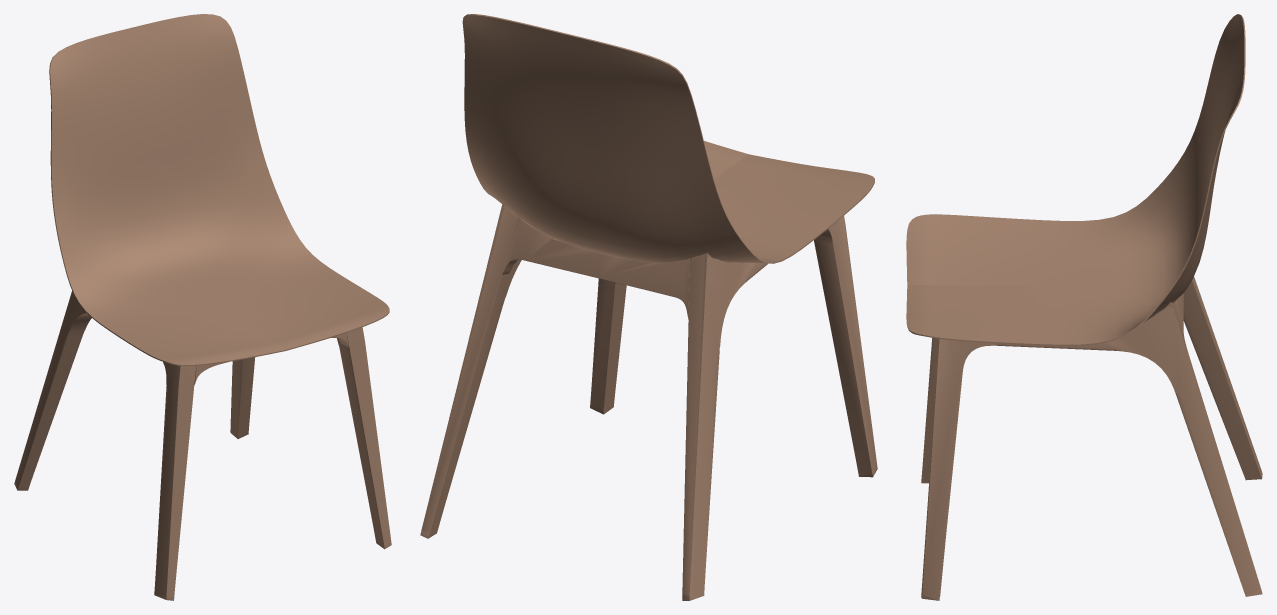
File: BP_이케아오드게르의자_C.glb
3 renders of one model, left to right at view 1: azimuth 30°, elevation 25°; view 2: azimuth 150°, elevation 25°; view 3: azimuth 270°, elevation 25°, orthographic. The views are drawn at different scales.
Parts seen in each view (by area): view 1: Plane; view 2: Plane; view 3: Plane.
Part boxes in pixels (x1,y1,x2,y2): Plane: (14, 14, 391, 600); Plane: (420, 14, 877, 600); Plane: (906, 14, 1262, 600).
Size of the model in its own units: 0.4516 by 0.8142 by 0.5374.
